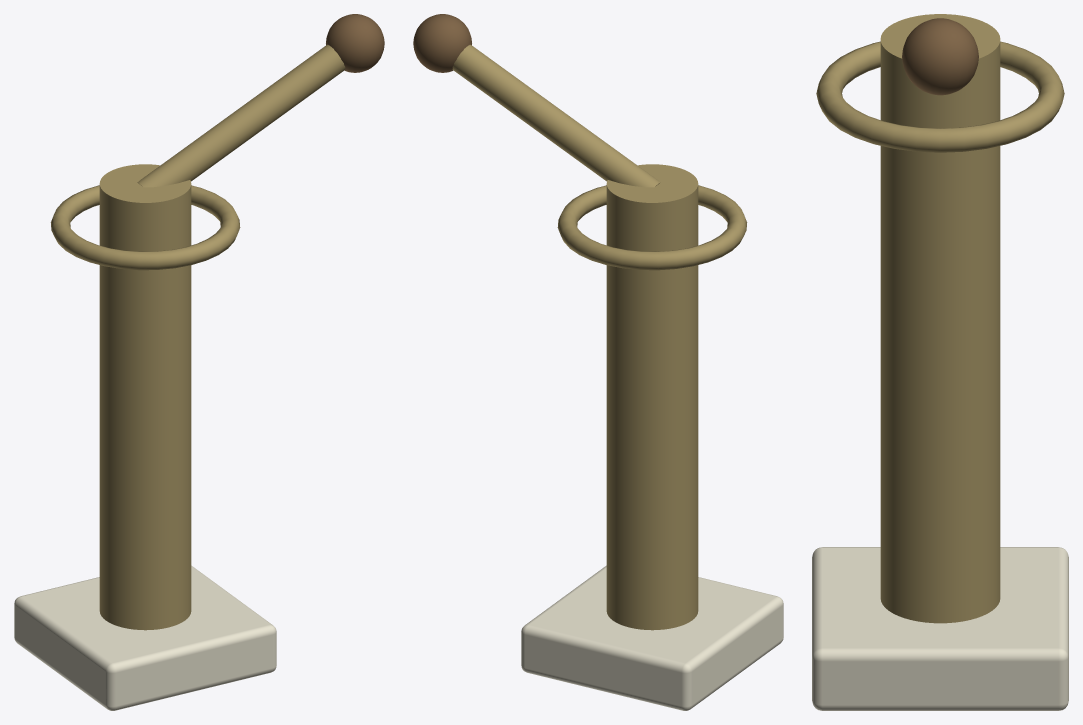
File: water-clock-garden-and-hydraulic-puzzles-selector-leve-86856b6a__31948.glb
3 views of the same model, side by side, from view 1: azimuth 30°, elevation 25°; view 2: azimuth 150°, elevation 25°; view 3: azimuth 270°, elevation 25° (orthographic). The views are drawn at different scales.
Visible parts, largest first — view 1: selector-lever-pedestal; view 2: selector-lever-pedestal; view 3: selector-lever-pedestal.
Boxes of the visible parts, left/top/right/bottom form: selector-lever-pedestal: left=14, top=14, right=384, bottom=710; selector-lever-pedestal: left=413, top=14, right=783, bottom=710; selector-lever-pedestal: left=812, top=14, right=1068, bottom=710.
Bounding box in the file's own units: 0.565 × 0.995 × 0.3.
